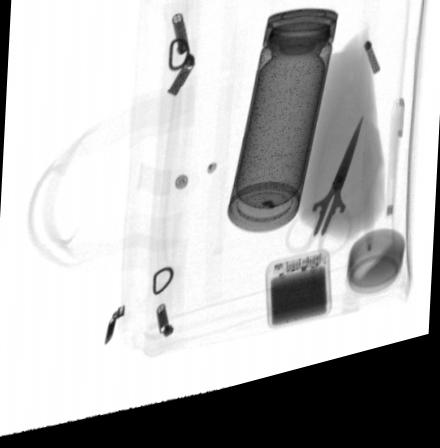Powerbank: (265, 265, 335, 345)
Scissors: (282, 133, 363, 276)
